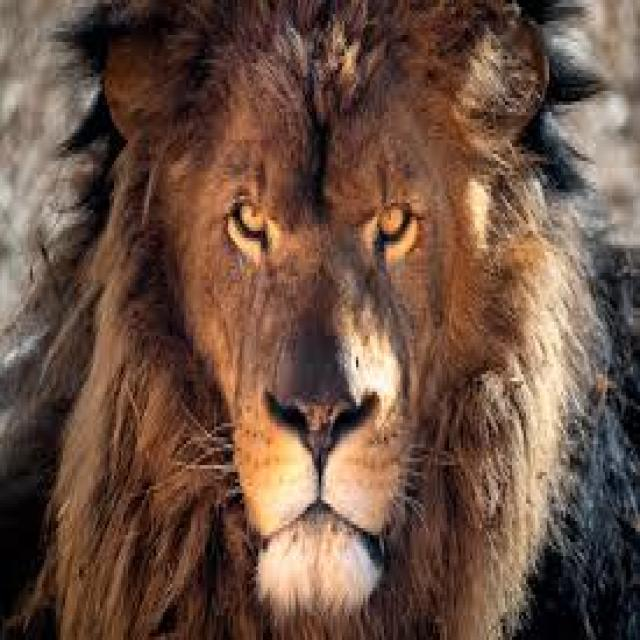Lion: (3, 10, 637, 626)
